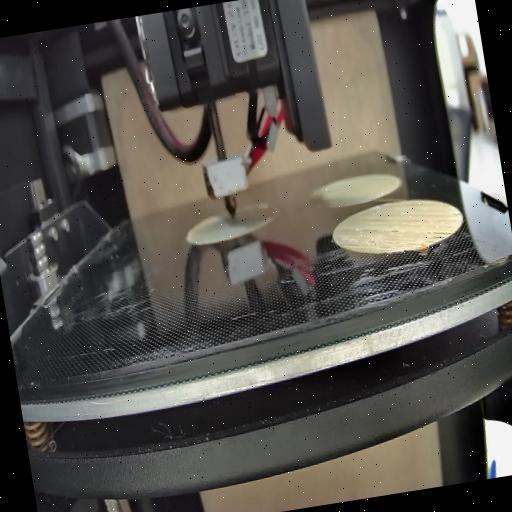under_extrusion: (360, 221, 400, 242), (421, 228, 451, 244), (402, 240, 422, 254), (340, 240, 358, 250), (449, 211, 461, 220)
